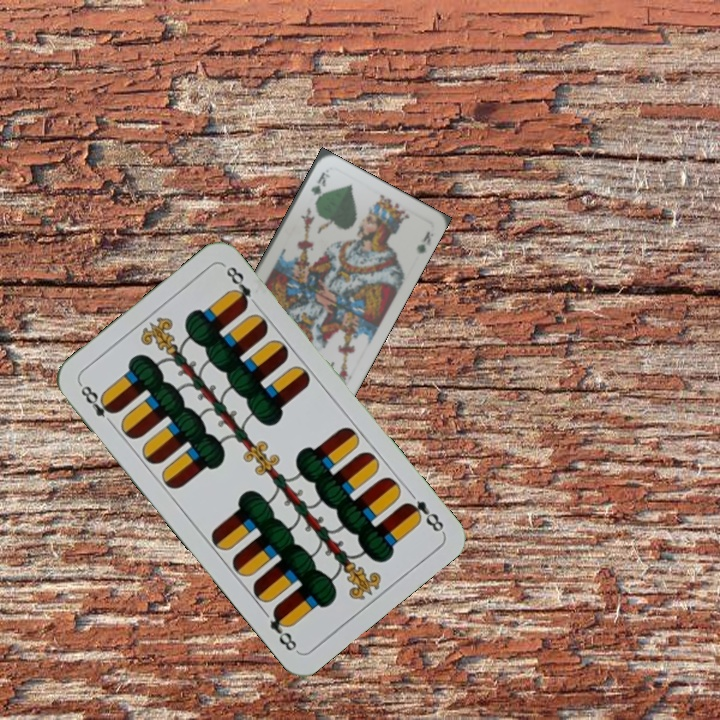E8: (75, 379, 119, 430), (400, 496, 447, 535)
GK: (306, 167, 329, 198)
